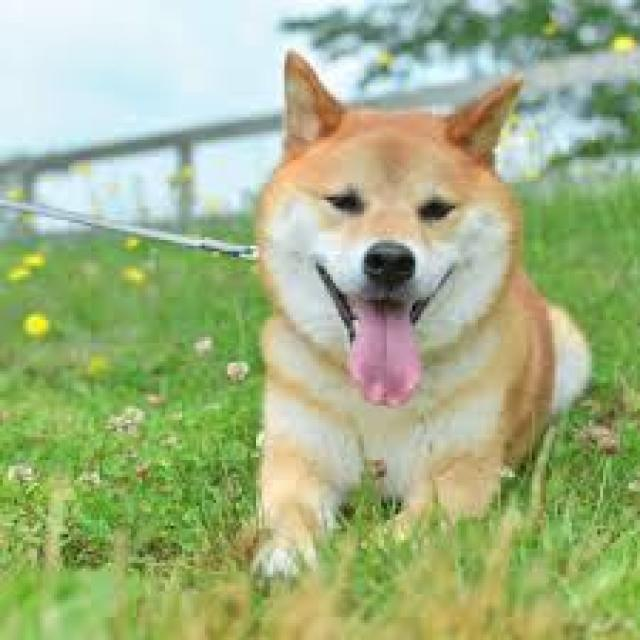dog: (249, 54, 592, 586)
